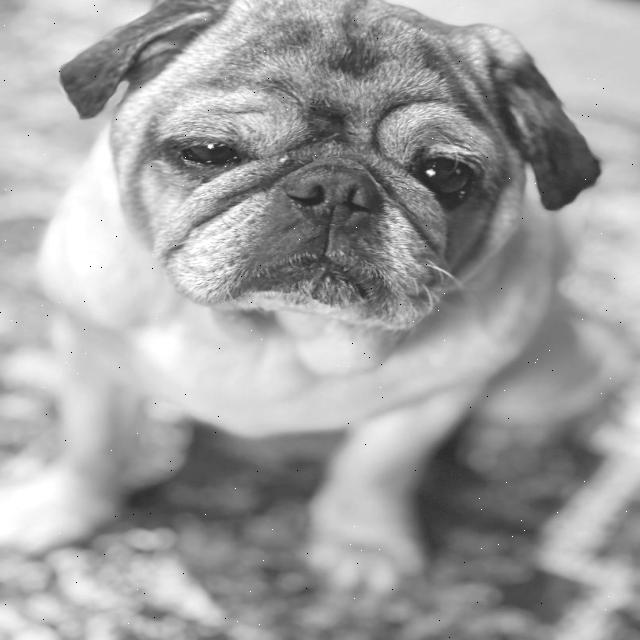pug_dog: (42, 3, 610, 340)
